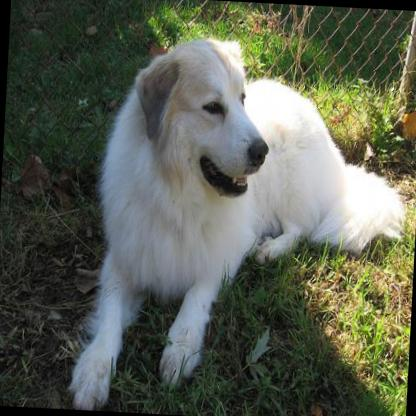Great_Pyrenees: (67, 28, 412, 416)
